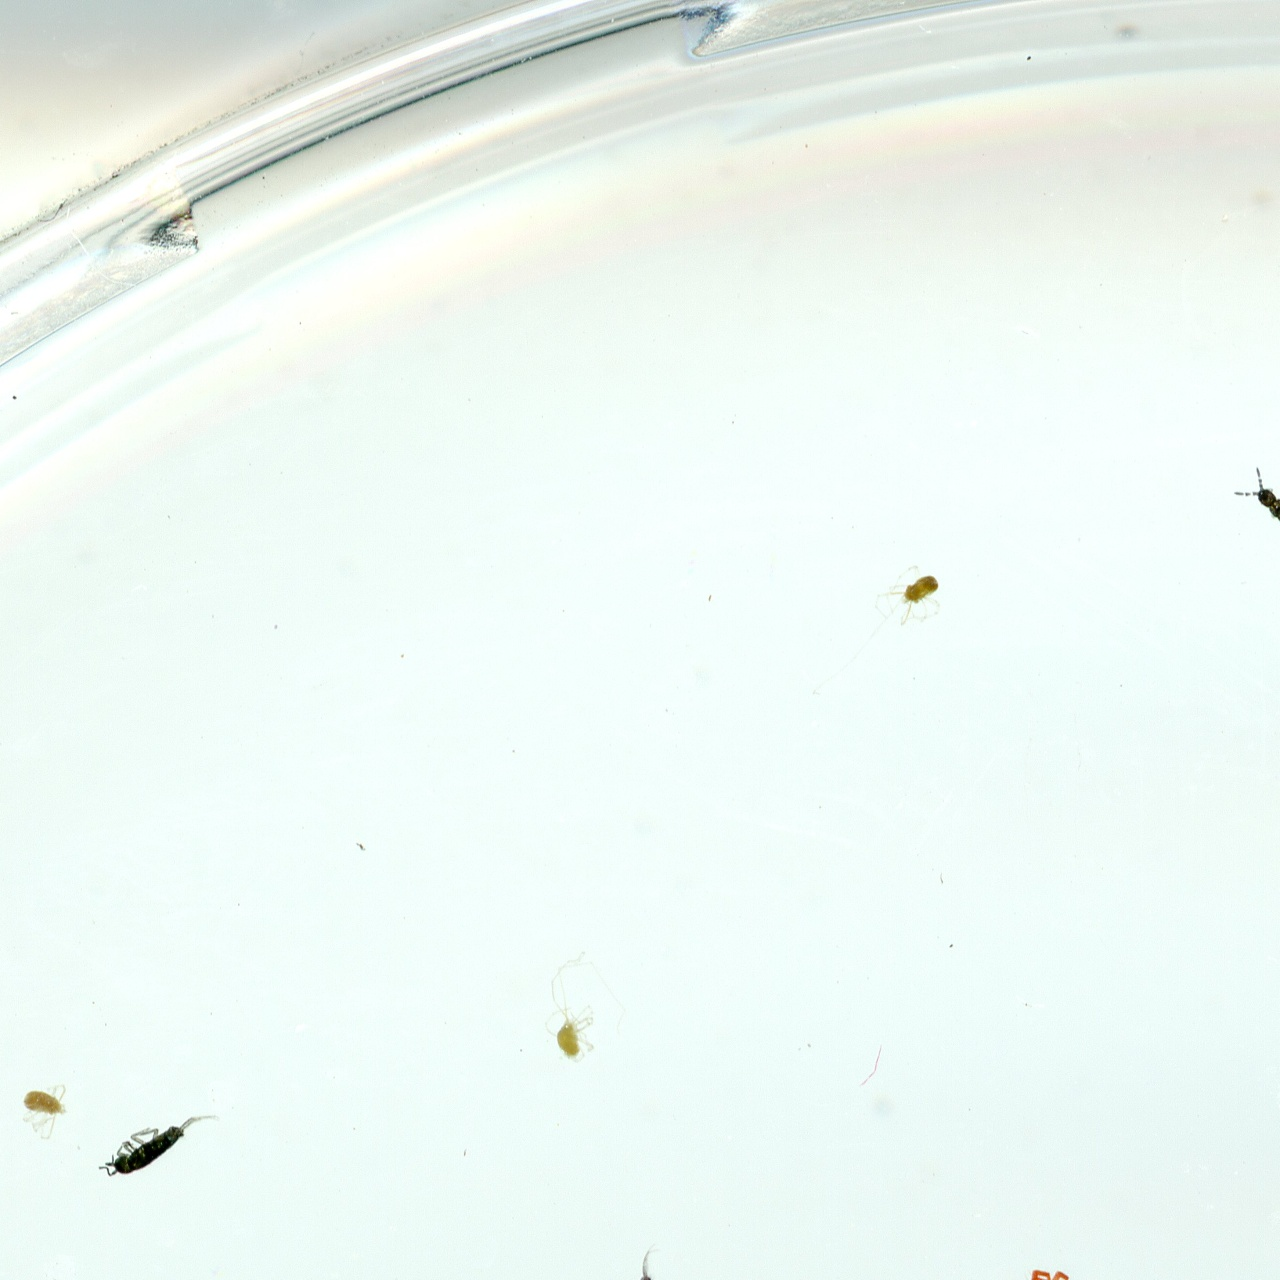arthropod: (542, 951, 626, 1064), (98, 1112, 217, 1179), (1227, 456, 1280, 561), (870, 563, 945, 628), (20, 1083, 68, 1139), (618, 1240, 662, 1280), (996, 1262, 1096, 1280)
